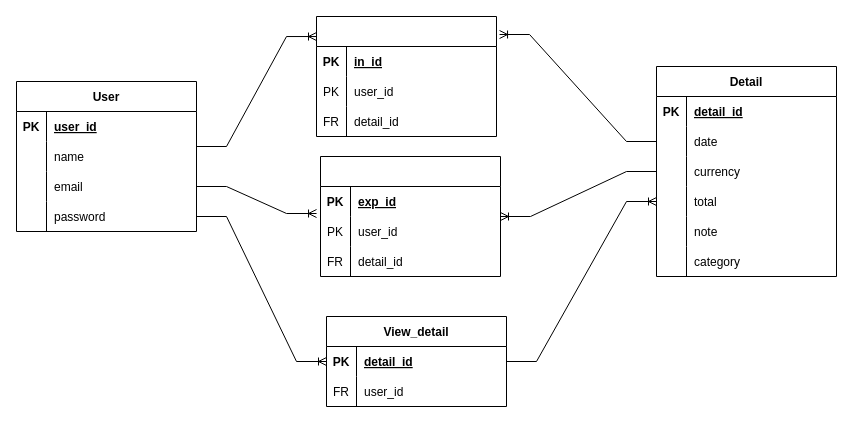
This 853x423 diagram has some shape labels left out. Each missing label, with the box of its shape:
Expense: (320, 156, 500, 276)
Income: (316, 16, 496, 136)
